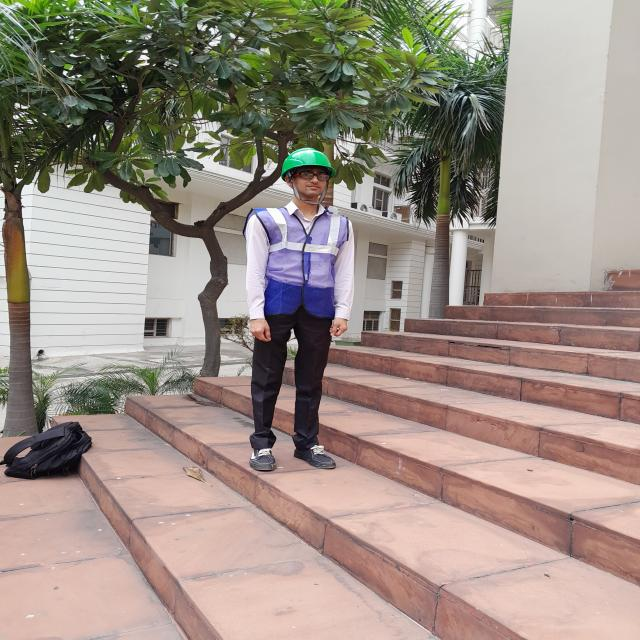safe: (243, 147, 354, 469)
